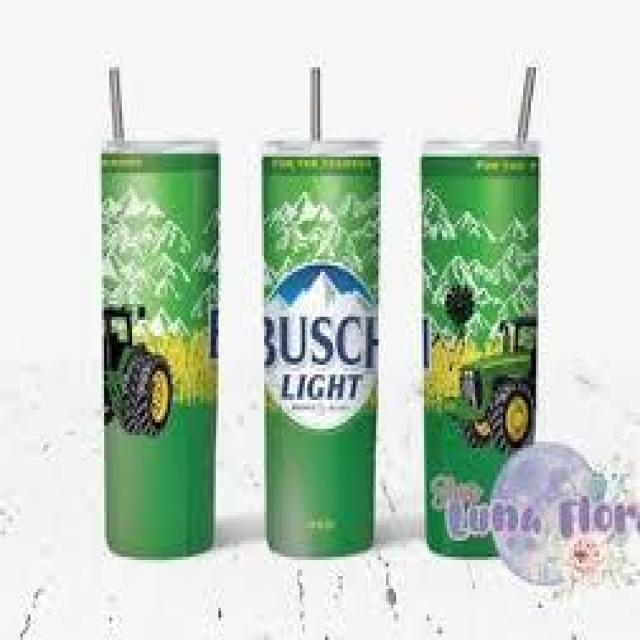bottle: (99, 64, 224, 576), (259, 66, 384, 571), (418, 61, 542, 563)
